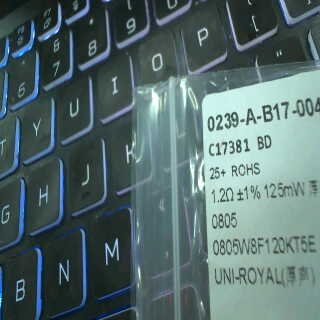1.2R: (207, 185, 236, 234)
